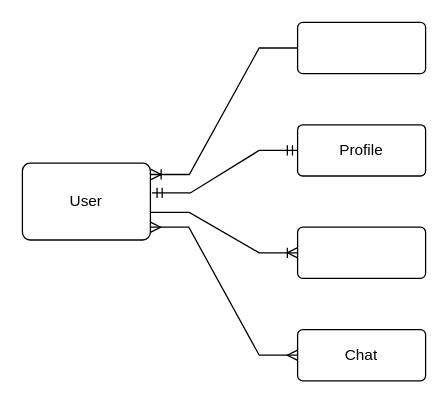
Some shapes in this 448 by 403 pixel diagram are drawn without their labels. Each missing label, with the box of its shape:
City: (296, 21, 426, 74)
Message: (296, 226, 426, 278)
